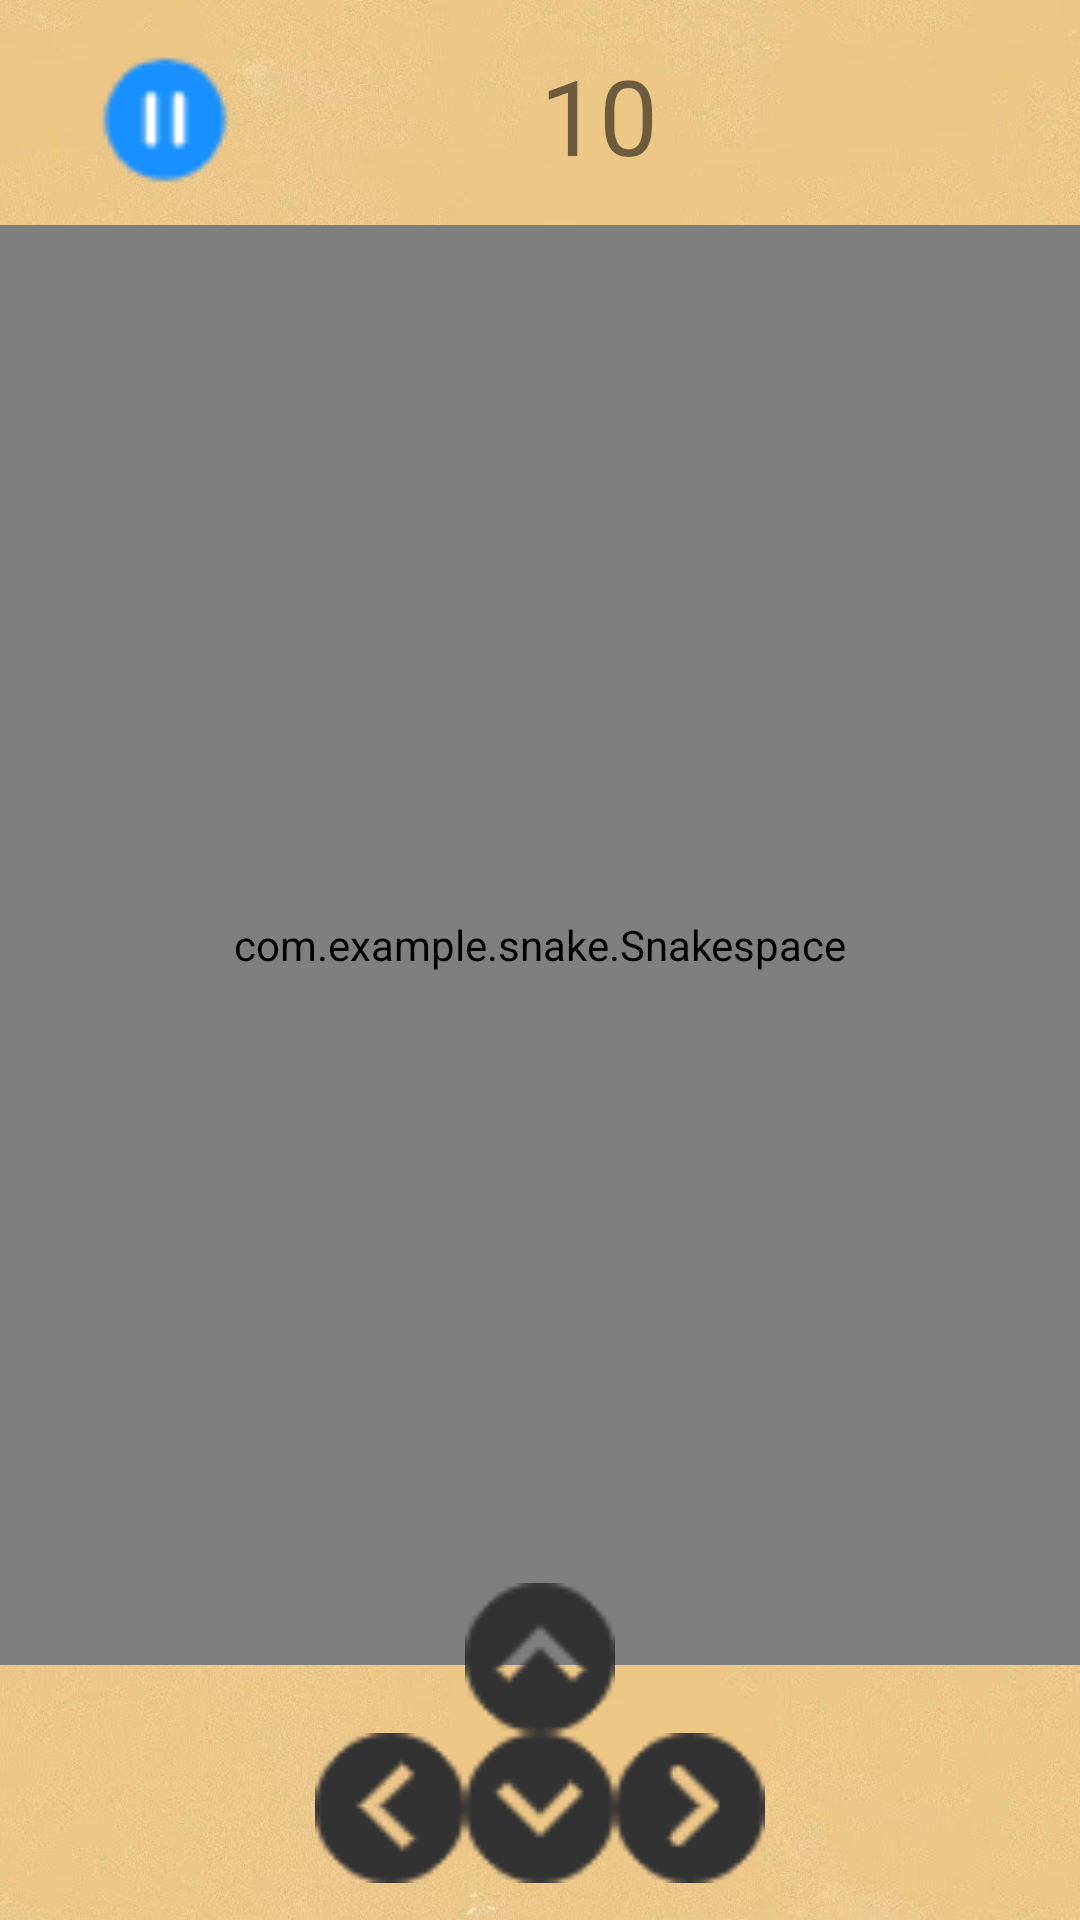

Icon click points for this 1080px×1920px phone screenshot, format (x=x, y=y):
down: (x=540, y=1808)
left: (x=390, y=1808)
pause: (x=165, y=120)
right: (x=690, y=1808)
